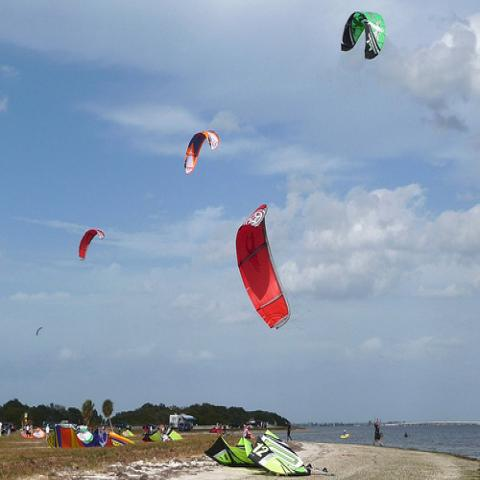car: (0, 422, 17, 435), (179, 422, 193, 430)
